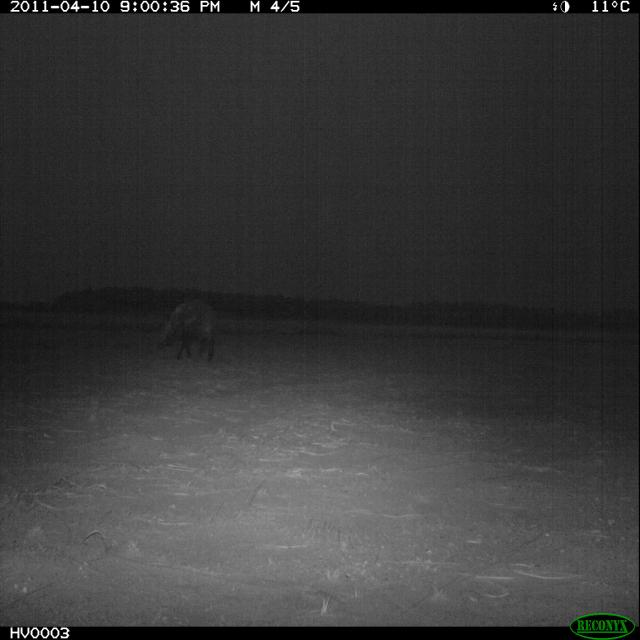boar: (132, 277, 246, 383)
